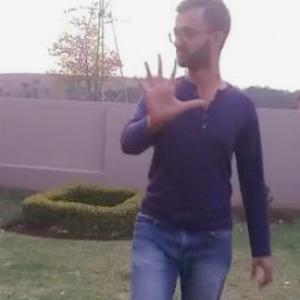follow_hand: (132, 50, 205, 125)
